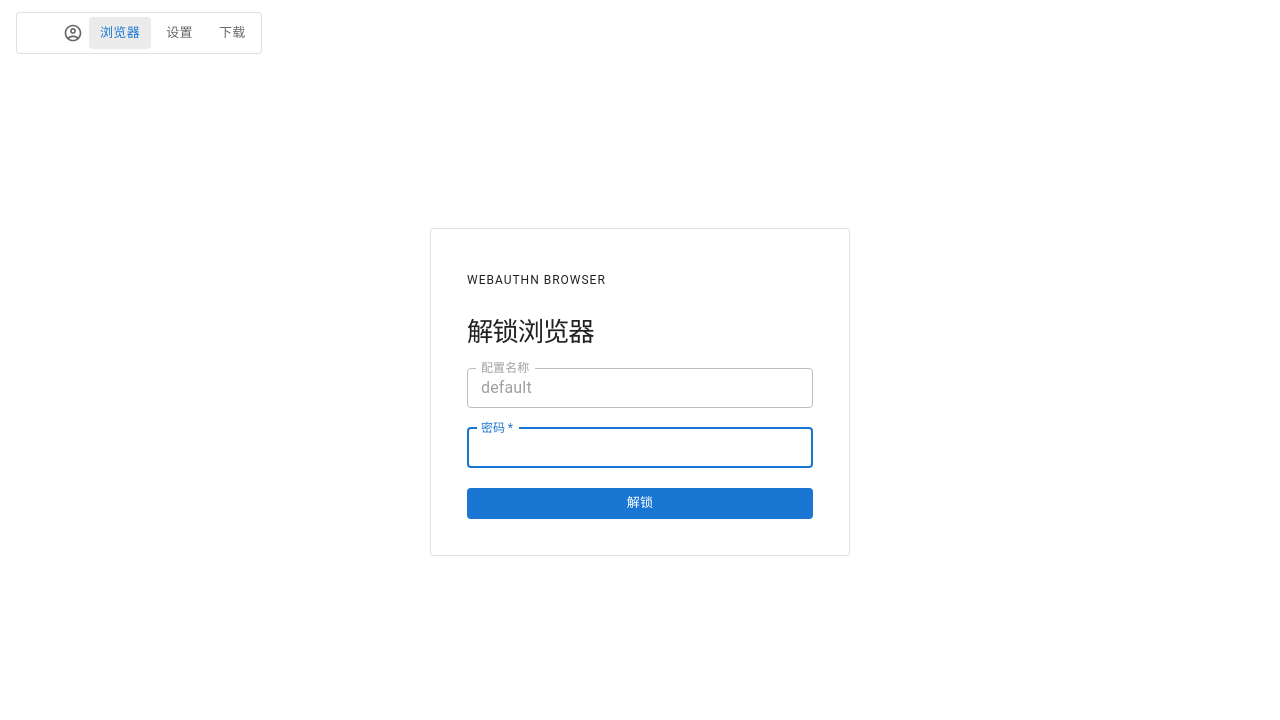
Test case: profile entry and remembered cookies › requires a nonempty password for a fixed protected name and clears it after failure and success
Check: the field labelled "配置名称" is disabled, box [467, 368, 813, 408]
Check: the field labelled "配置名称" holds "default", box [467, 368, 813, 408]
Submit the form "解锁", box [467, 265, 813, 519]
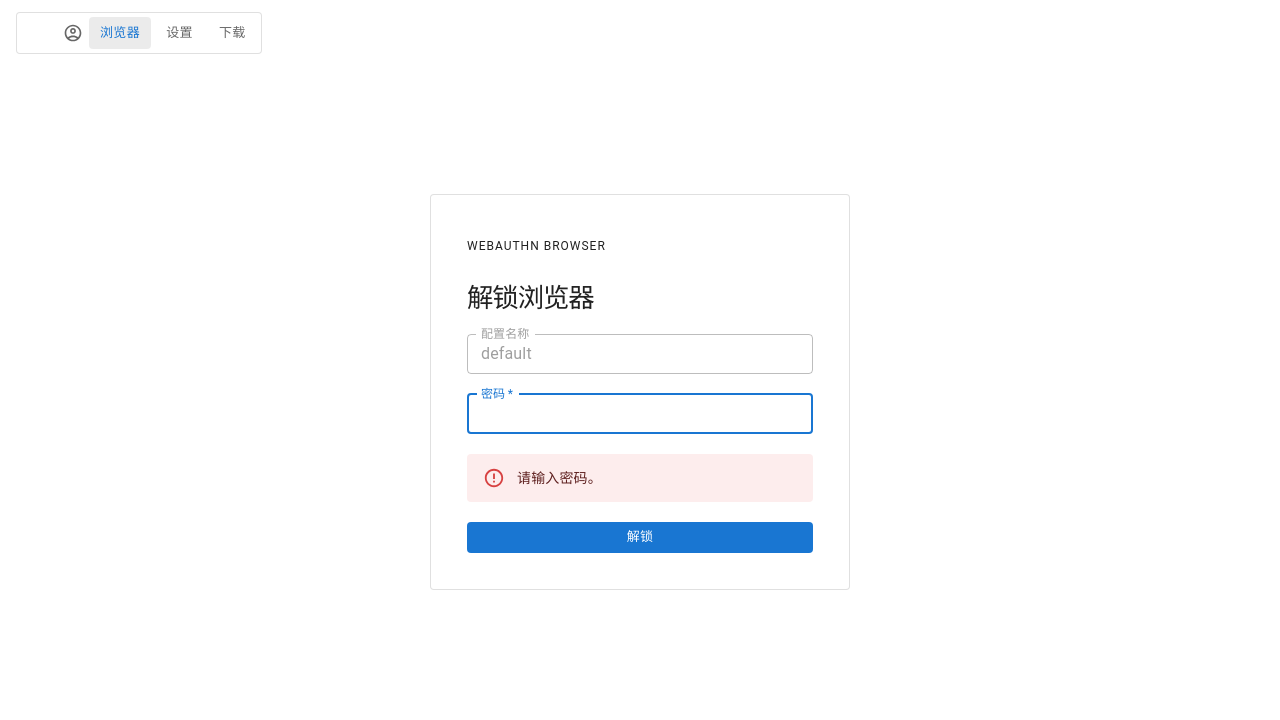
Check: the text "请输入密码。" is shown, box [517, 470, 602, 486]
Type "wrong" into the password field labelled "密码 *" at (640, 414), box [467, 394, 813, 434]
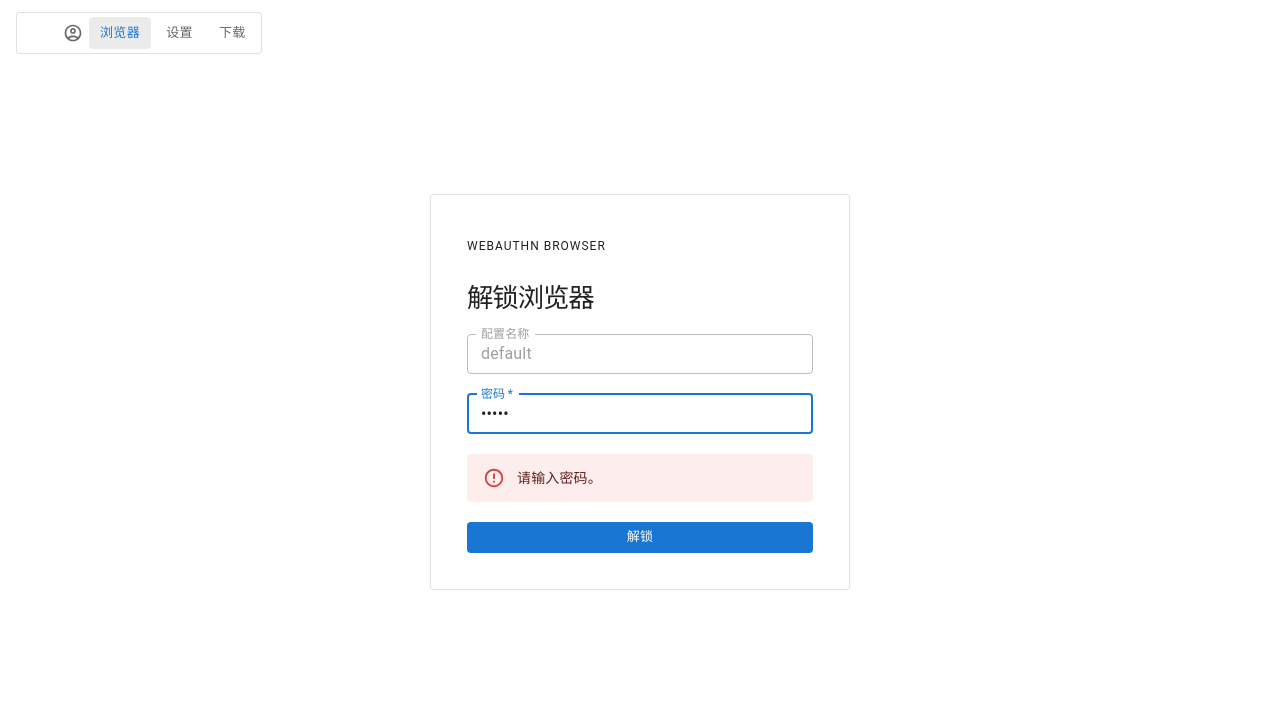
Submit the form "解锁", box [467, 231, 813, 553]
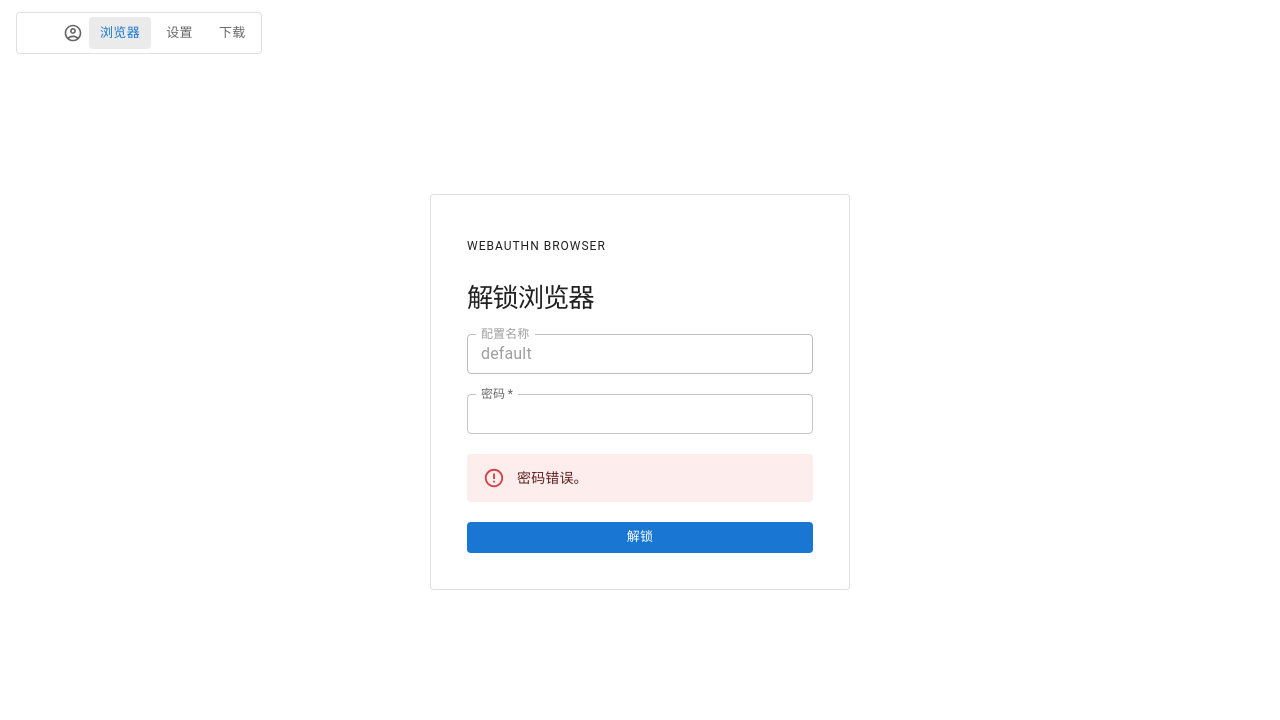
Check: the text "密码错误。" is shown, box [517, 470, 588, 486]
Check: the password field labelled "密码 *" is empty
Type "right" into the password field labelled "密码 *" at (640, 414), box [467, 394, 813, 434]
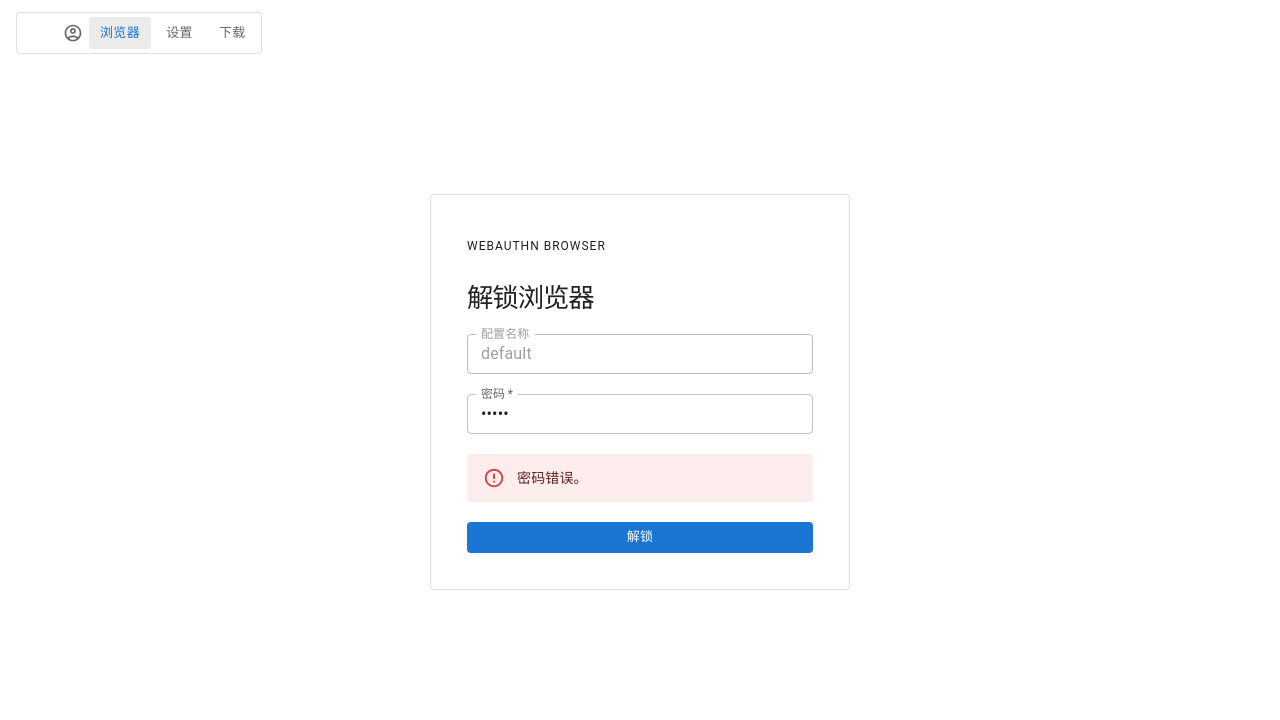
Submit the form "解锁", box [467, 231, 813, 553]
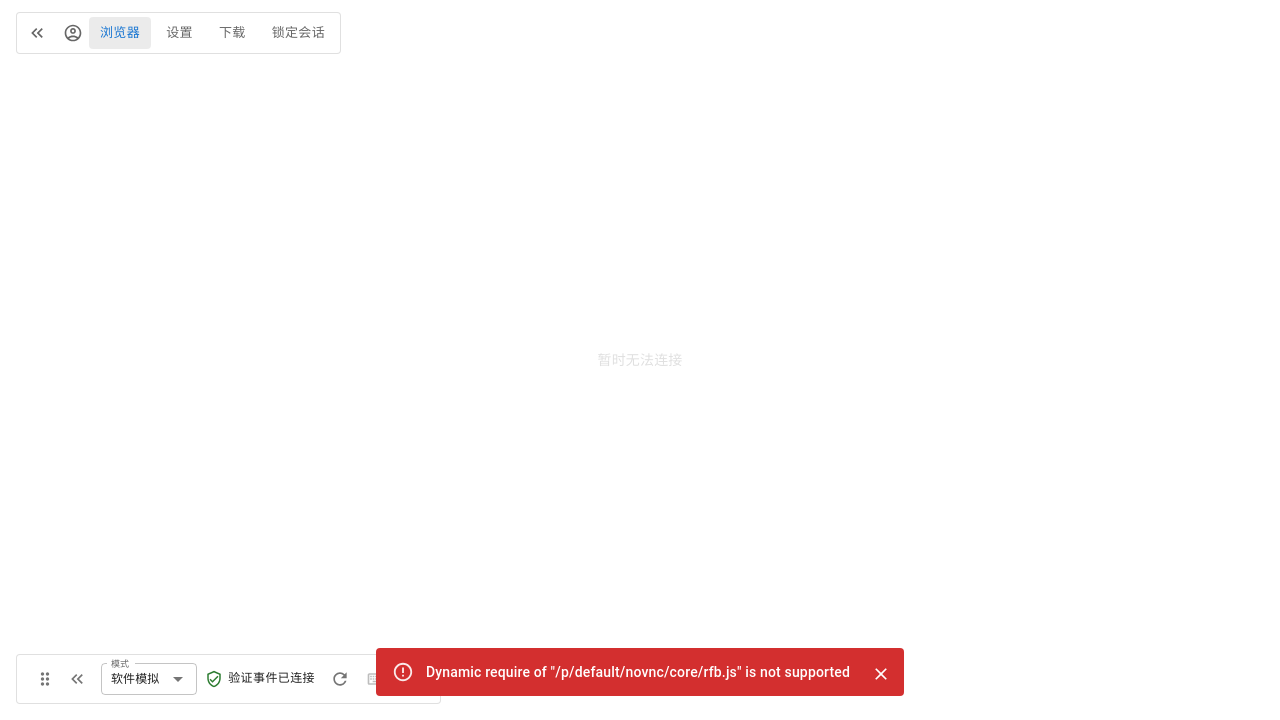
Check: the label labelled "密码" is gone
